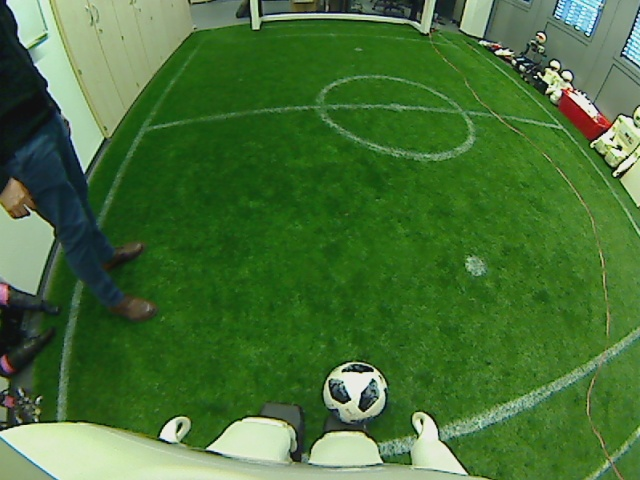ball: (321, 359, 390, 427)
